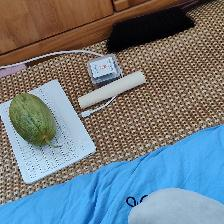gua: (8, 92, 54, 145)
